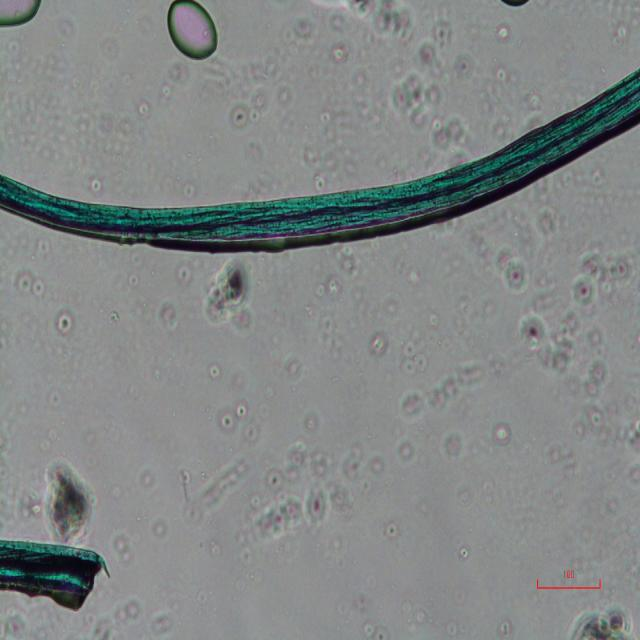Air bubble: (165, 2, 221, 62), (0, 0, 44, 29)
Background material: (544, 242, 640, 392), (250, 448, 346, 550), (384, 49, 477, 152), (0, 73, 94, 169), (388, 363, 490, 430), (171, 454, 249, 517), (39, 460, 97, 543), (312, 254, 380, 324), (200, 255, 258, 323), (0, 593, 69, 640), (348, 0, 426, 41), (581, 411, 640, 465), (228, 63, 270, 134), (562, 602, 638, 640), (481, 238, 528, 294), (93, 119, 151, 162), (345, 441, 382, 506), (490, 66, 522, 140), (0, 472, 43, 518), (280, 4, 320, 49), (303, 145, 343, 189), (96, 604, 142, 637), (0, 405, 23, 468), (222, 403, 254, 448), (529, 204, 565, 243), (424, 18, 456, 58), (519, 310, 547, 354), (605, 18, 640, 53), (112, 519, 136, 569), (312, 108, 345, 144), (349, 77, 376, 121), (230, 525, 258, 564), (14, 266, 48, 298), (405, 600, 435, 636), (276, 83, 298, 131), (146, 605, 176, 640), (491, 417, 519, 450), (394, 255, 420, 290), (363, 332, 393, 362), (167, 259, 195, 290), (398, 349, 430, 372), (325, 30, 347, 63), (382, 288, 405, 318), (202, 357, 224, 388), (98, 32, 124, 58), (158, 298, 178, 331), (444, 432, 469, 458), (83, 174, 108, 200), (392, 434, 413, 464), (54, 312, 78, 335), (136, 471, 162, 492), (382, 514, 402, 541), (120, 270, 148, 289), (254, 135, 269, 170), (494, 614, 514, 640), (360, 621, 387, 640), (150, 520, 172, 543), (490, 21, 514, 42), (102, 302, 120, 330), (447, 619, 470, 640), (42, 422, 58, 452), (356, 588, 371, 620), (456, 528, 470, 562), (46, 383, 66, 406), (171, 58, 189, 83), (503, 1, 531, 14), (183, 183, 198, 207), (153, 83, 173, 98), (307, 418, 323, 436), (286, 358, 299, 379), (135, 102, 152, 116), (588, 172, 602, 189), (211, 541, 225, 556), (428, 317, 441, 328)
Microfibre: (0, 66, 640, 252), (0, 535, 108, 597)
